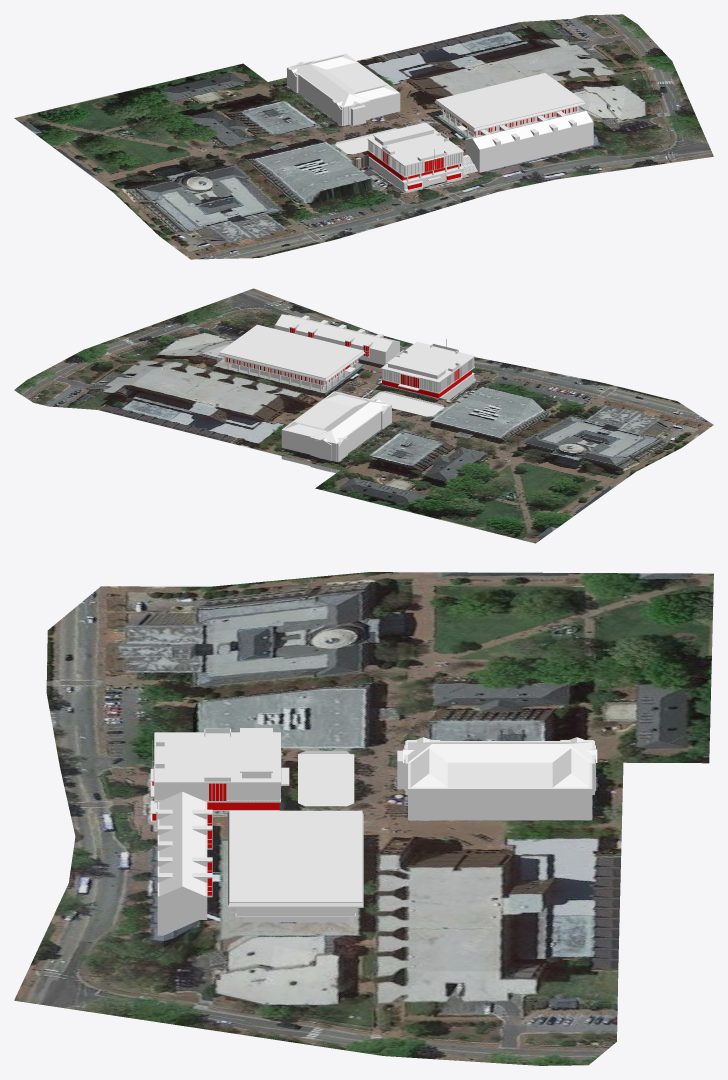
File: ThePitTerrain.obj
The picture shows the model from 3 angles, top to bottom: view 1: azimuth 30°, elevation 25°; view 2: azimuth 150°, elevation 25°; view 3: azimuth 270°, elevation 25°; orthographic projection. The views are drawn at different scales.
Parts seen in each view (by area): view 1: Mesh4 Group3 Model, Mesh2 Group1 Model, Mesh11 Group8 Model, Mesh3 Group2 Model, Mesh1 Group1 Model, Mesh10 Group7 Model; view 2: Mesh4 Group3 Model, Mesh2 Group1 Model, Mesh11 Group8 Model, Mesh3 Group2 Model, Mesh1 Group1 Model, Mesh10 Group7 Model; view 3: Mesh4 Group3 Model, Mesh11 Group8 Model, Mesh2 Group1 Model, Mesh3 Group2 Model, Mesh1 Group1 Model, Mesh10 Group7 Model.
Boxes of the visible parts, x1,y1,x2,y2 form: Mesh4 Group3 Model: [14, 14, 713, 259]; Mesh2 Group1 Model: [434, 73, 585, 136]; Mesh11 Group8 Model: [286, 53, 400, 125]; Mesh3 Group2 Model: [367, 122, 464, 192]; Mesh1 Group1 Model: [465, 111, 593, 172]; Mesh10 Group7 Model: [335, 128, 399, 154]; Mesh4 Group3 Model: [14, 288, 713, 543]; Mesh2 Group1 Model: [218, 324, 364, 391]; Mesh11 Group8 Model: [281, 391, 392, 472]; Mesh3 Group2 Model: [380, 339, 475, 400]; Mesh1 Group1 Model: [274, 314, 399, 365]; Mesh10 Group7 Model: [370, 391, 444, 416]; Mesh4 Group3 Model: [14, 572, 713, 1065]; Mesh11 Group8 Model: [397, 737, 597, 820]; Mesh2 Group1 Model: [228, 810, 363, 923]; Mesh3 Group2 Model: [150, 728, 289, 826]; Mesh1 Group1 Model: [157, 791, 212, 935]; Mesh10 Group7 Model: [298, 751, 354, 806].
Size of the model in its own units: 14752 by 1276 by 9099.
3 materials, 1 textured.
